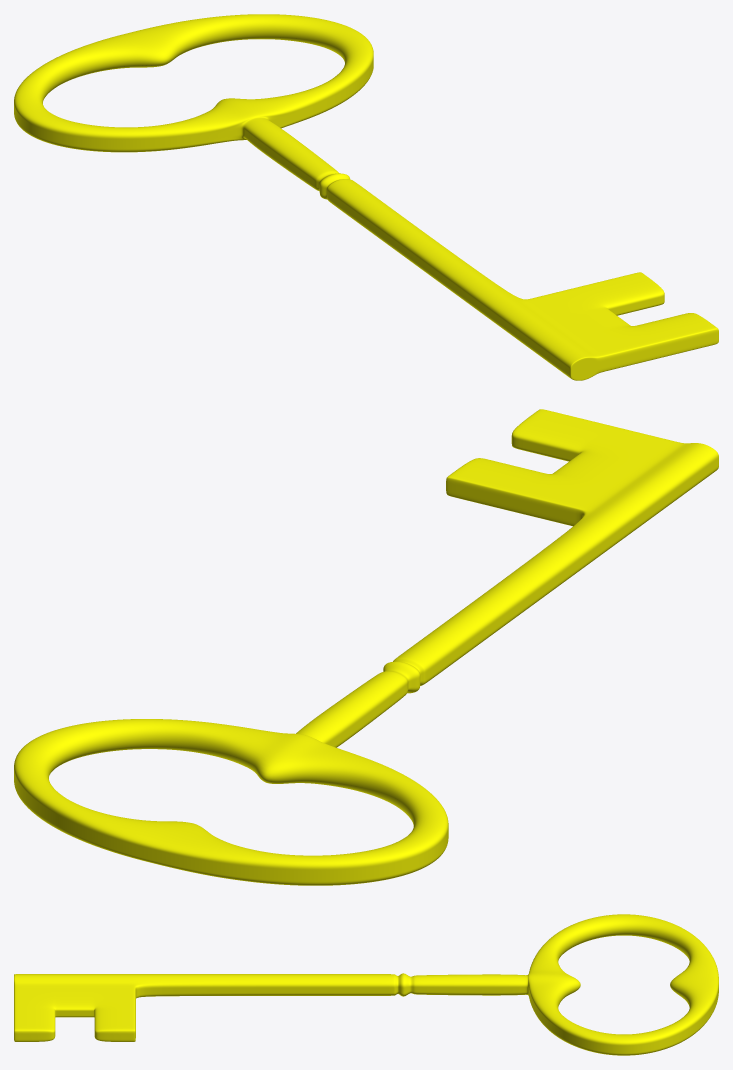
File: key.glb
3 views of the same model, one above another, from view 1: azimuth 30°, elevation 25°; view 2: azimuth 150°, elevation 25°; view 3: azimuth 270°, elevation 25° (orthographic). The views are drawn at different scales.
Parts seen in each view (by area): view 1: Circle.001; view 2: Circle.001; view 3: Circle.001.
Part boxes in pixels (bbox=[...]): Circle.001: bbox=[14, 14, 718, 380]; Circle.001: bbox=[14, 409, 718, 885]; Circle.001: bbox=[14, 914, 718, 1055].
Bounding box in the file's own units: 1 × 0.069 × 2.31.
